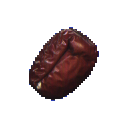ng: (17, 21, 110, 110)
